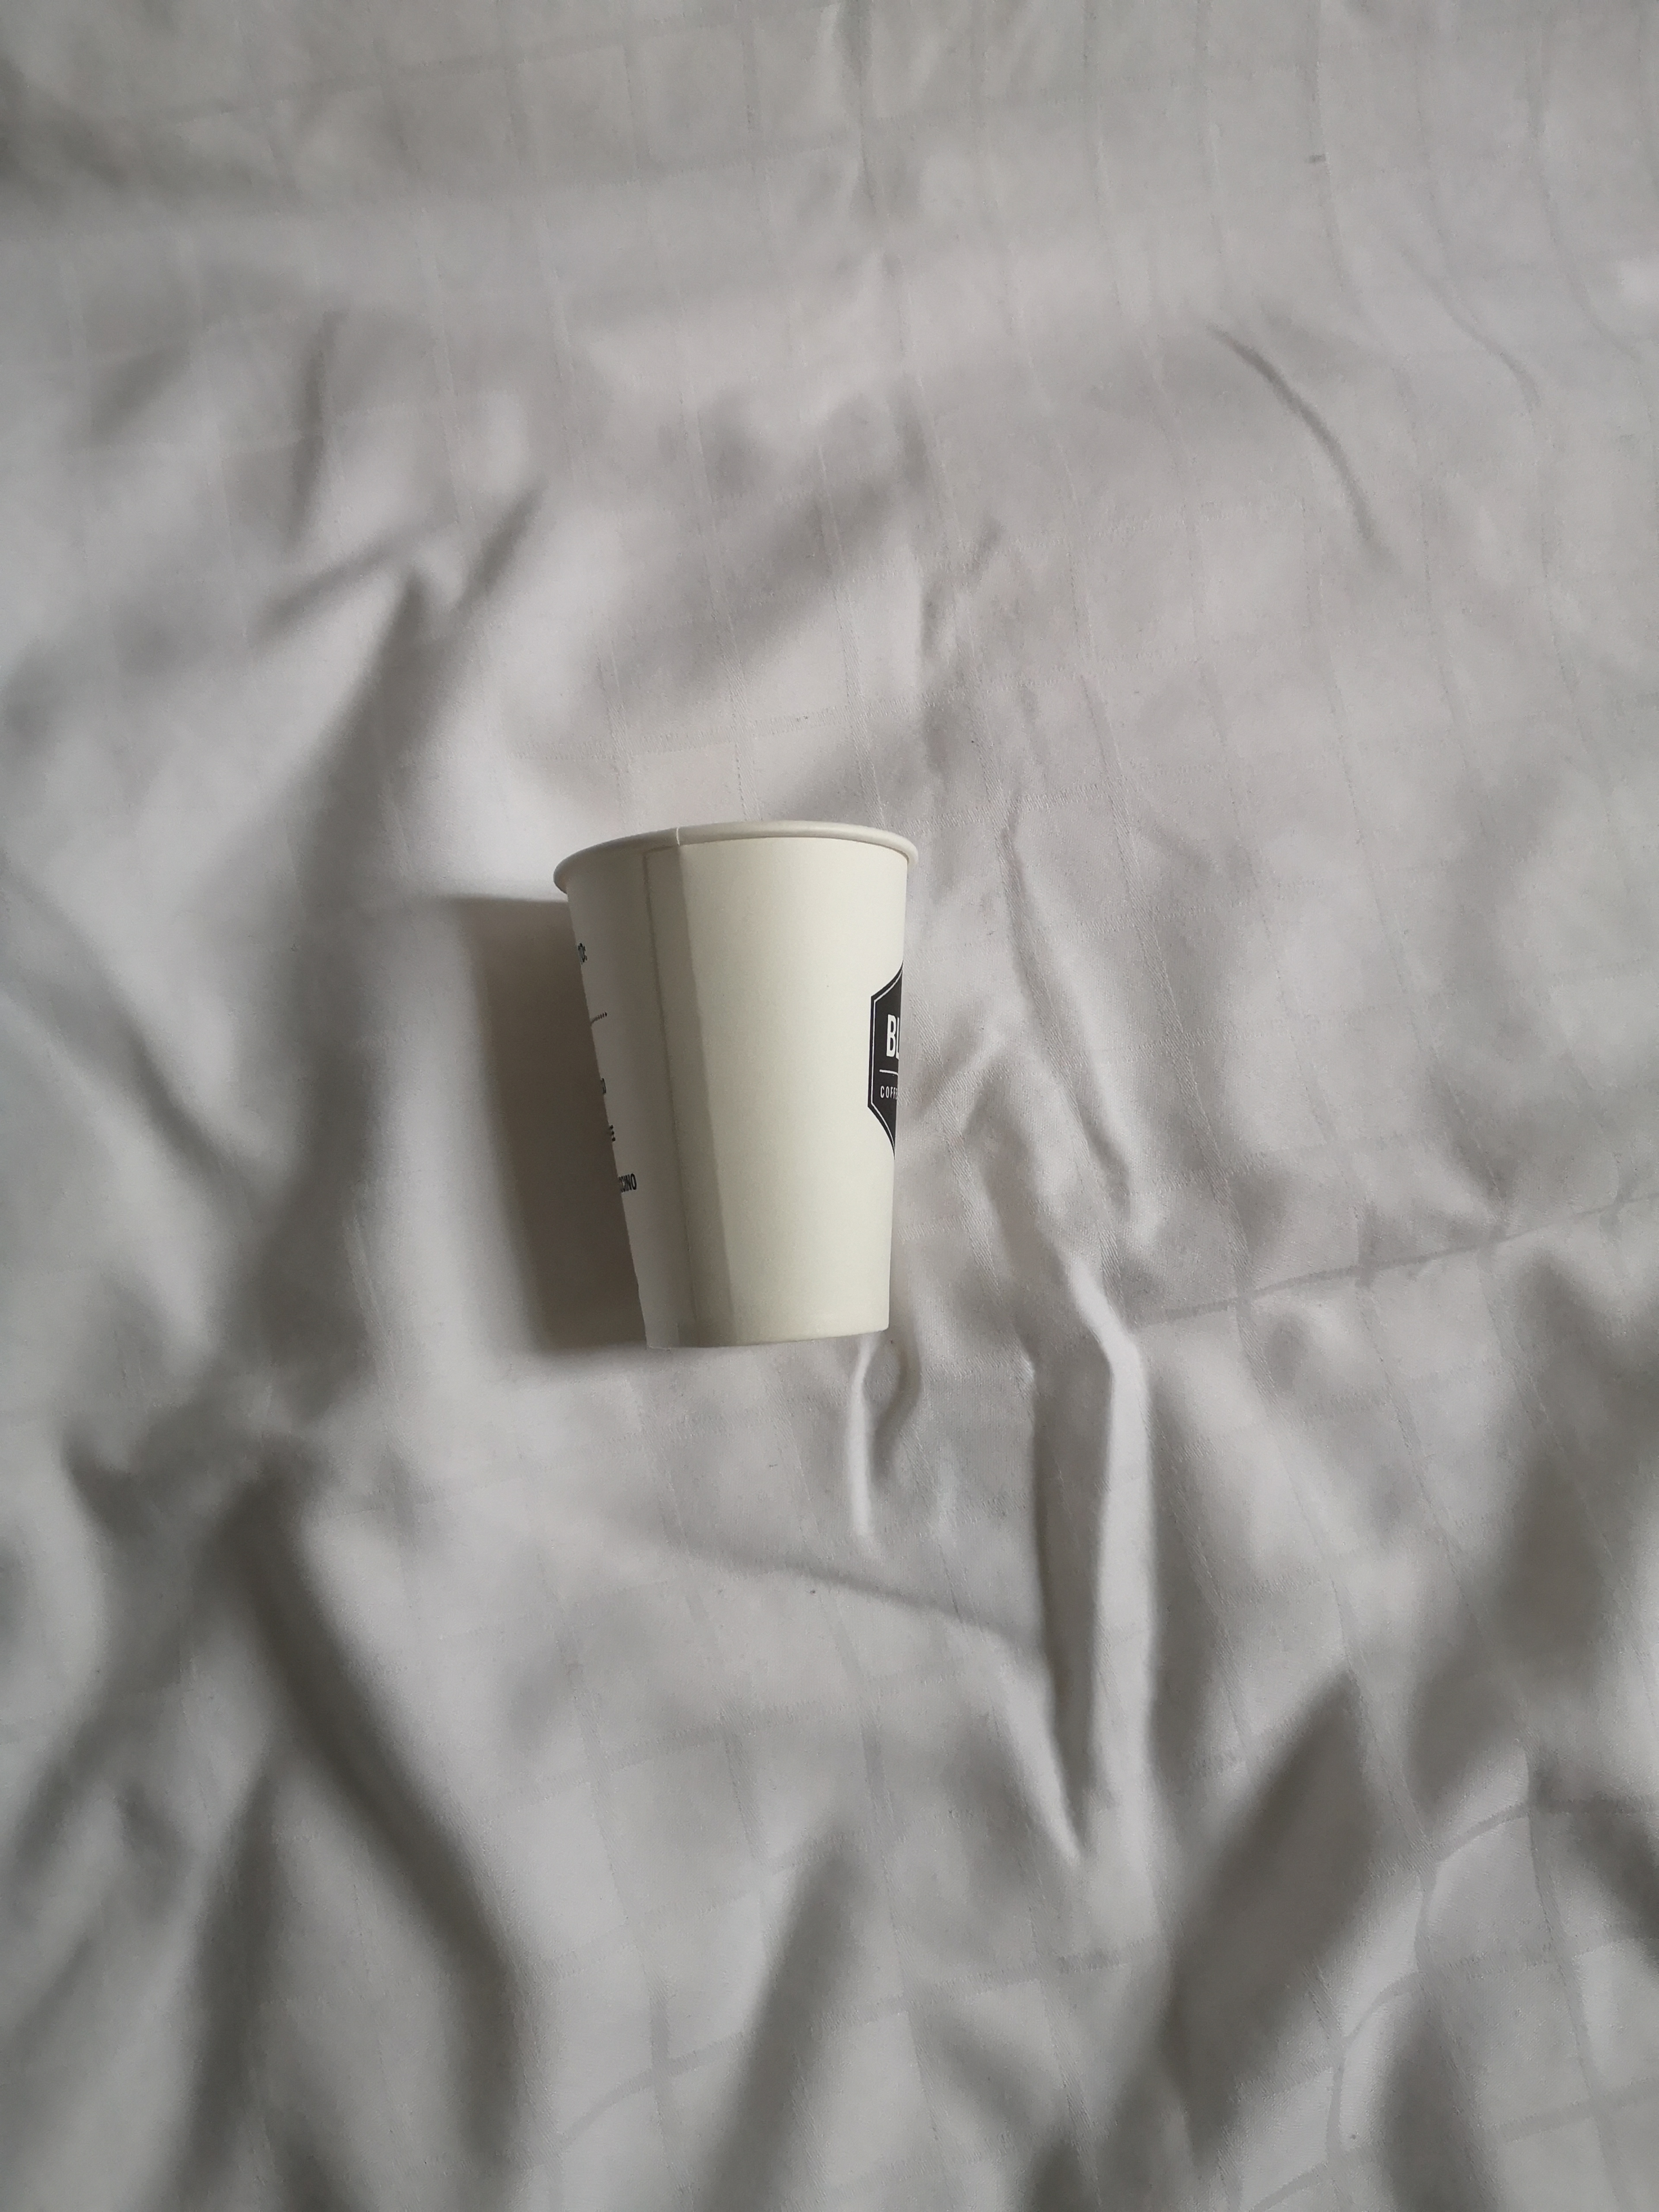cup: (525, 777, 950, 1388)
